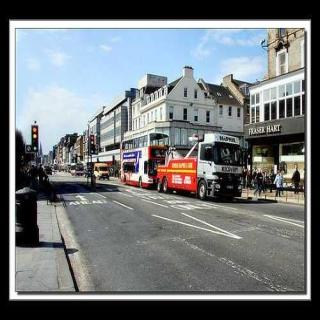Towing_truck: (154, 131, 245, 201)
